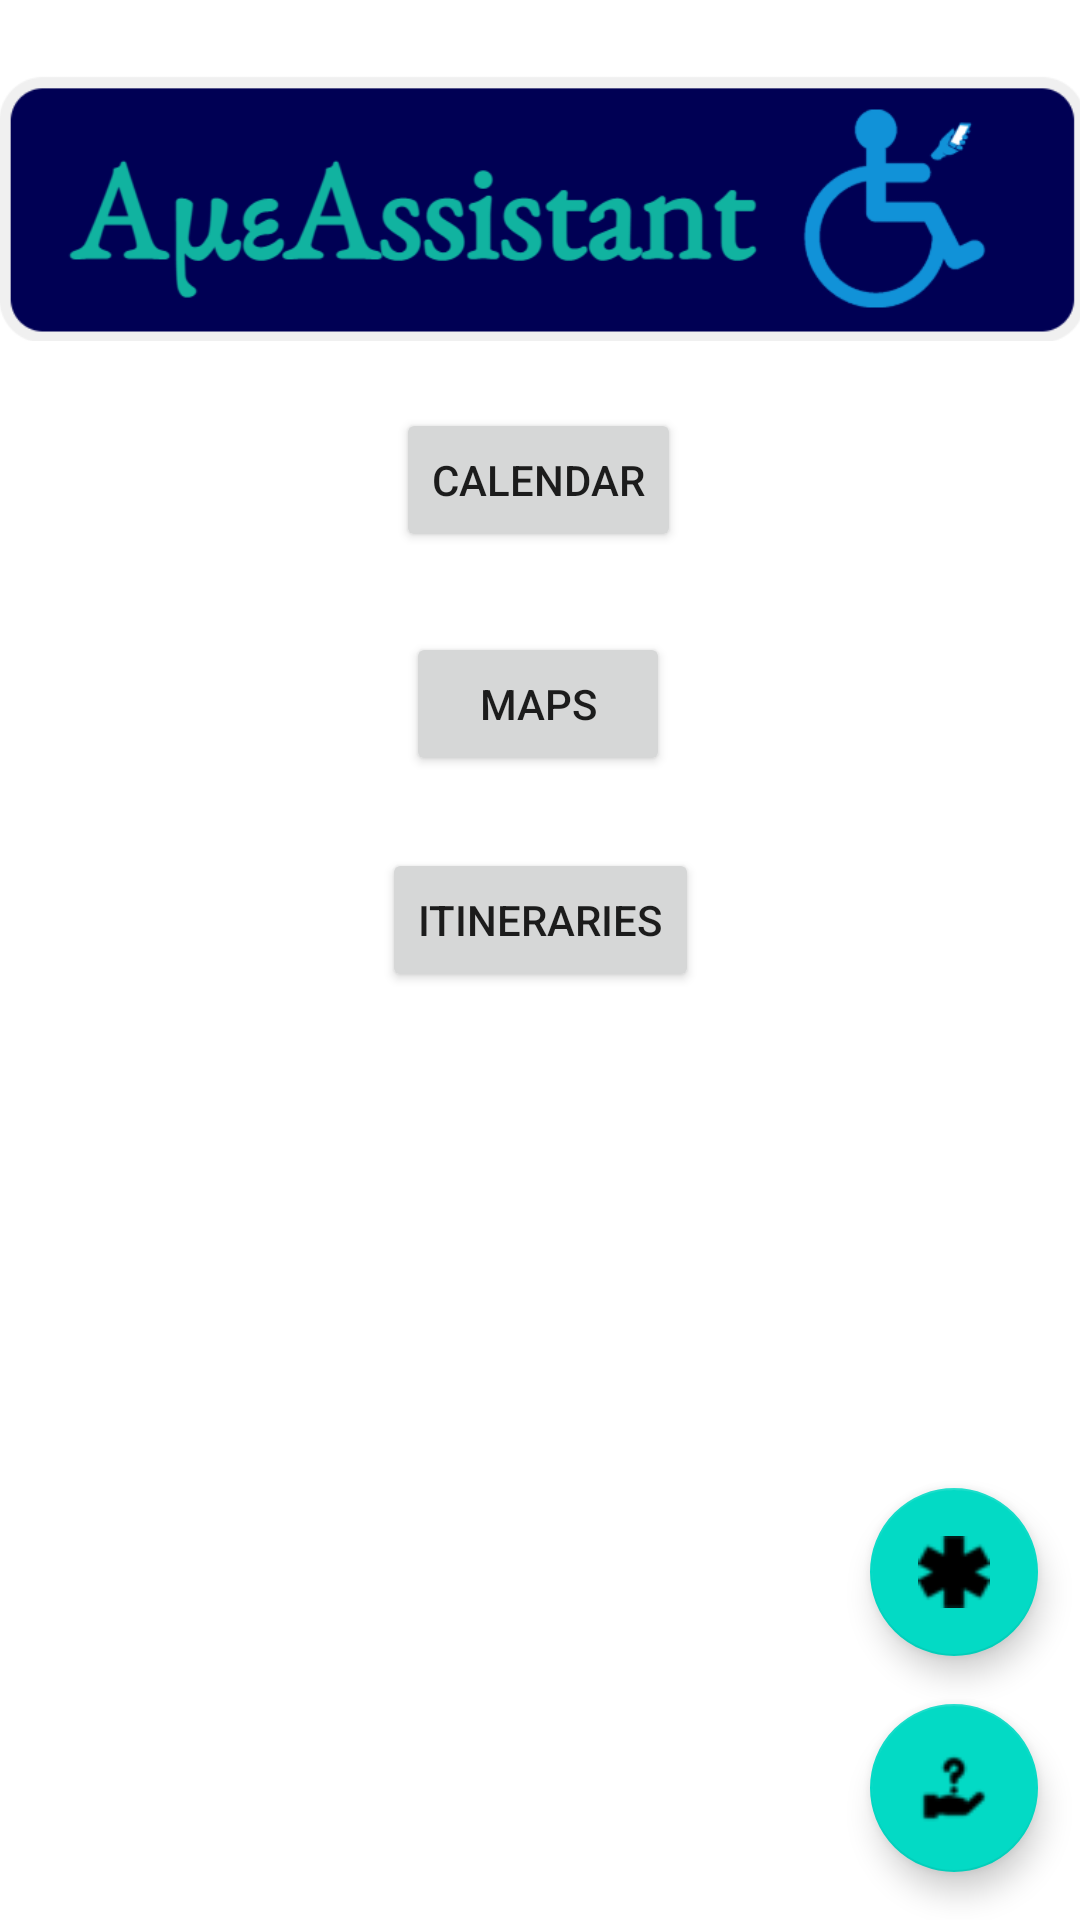

Locate icon controls on the screen. Image size 1080w x 1920h, boxes as (left=x1, top=y1, right=x2, bottom=y2).
help: (left=870, top=1704, right=1038, bottom=1872)
